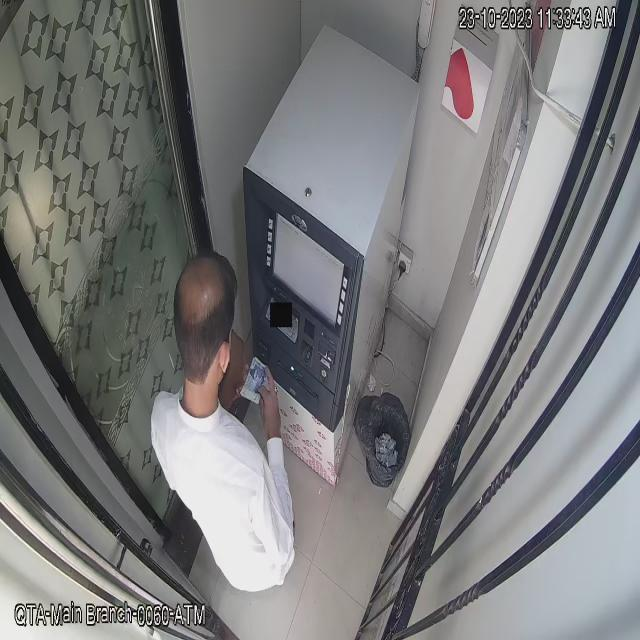note: (235, 349, 269, 413)
